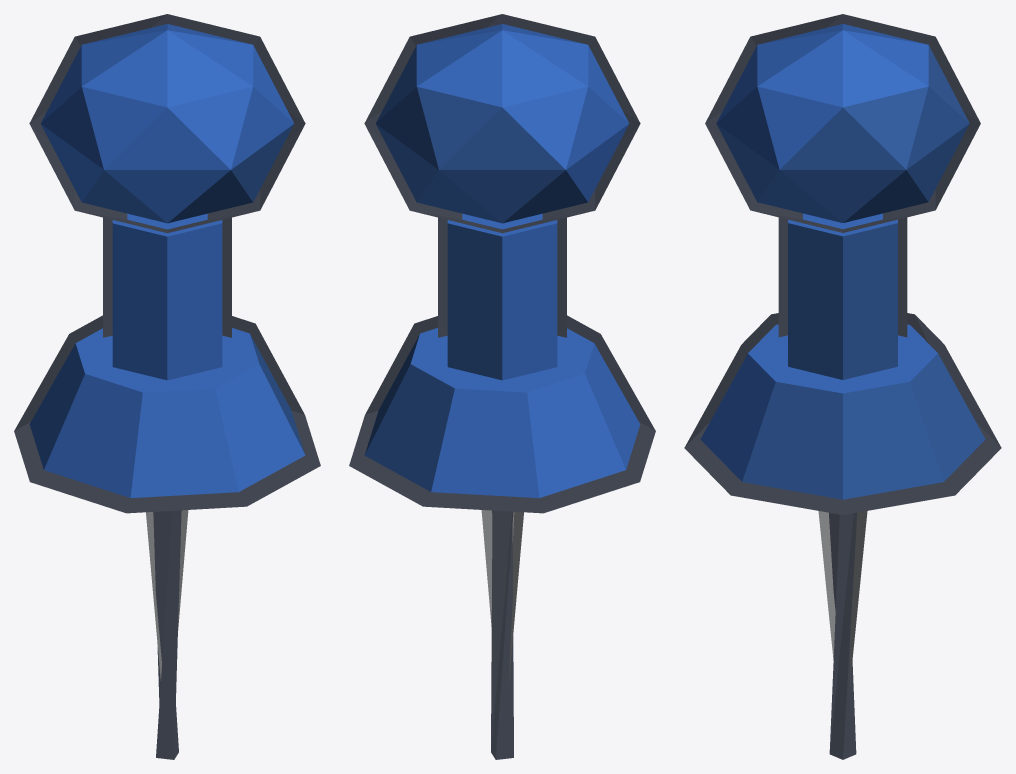
The model's file is marker_pin_b.glb.
3 renders of one model, left to right at view 1: azimuth 30°, elevation 25°; view 2: azimuth 150°, elevation 25°; view 3: azimuth 270°, elevation 25°, orthographic.
Visible parts, largest first — view 1: pin, ink_outline; view 2: pin, ink_outline; view 3: pin, ink_outline.
Boxes of the visible parts, x1,y1,x2,y2 form: pin: (29, 24, 305, 680); ink_outline: (14, 14, 320, 759); pin: (364, 24, 640, 688); ink_outline: (349, 14, 655, 759); pin: (700, 24, 985, 686); ink_outline: (684, 14, 1001, 759).
Bounding box in the file's own units: 0.02 × 0.0512 × 0.02.
